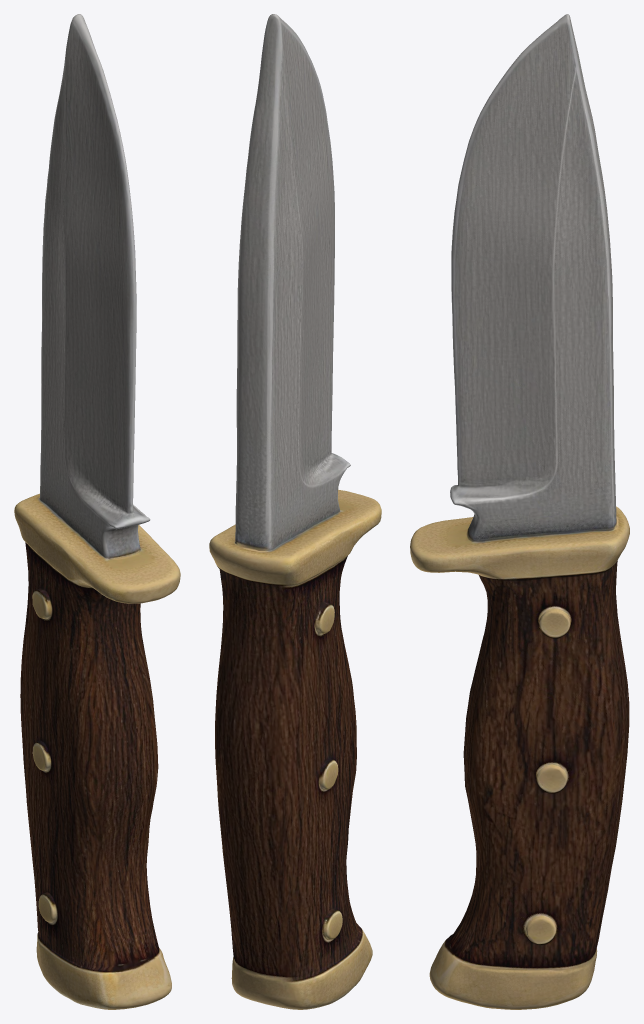
File: hunting_knife.glb
3 views of the same model, side by side, from view 1: azimuth 30°, elevation 25°; view 2: azimuth 150°, elevation 25°; view 3: azimuth 270°, elevation 25° (orthographic). The views are drawn at different scales.
Visible parts, largest first — view 1: hunting_knife; view 2: hunting_knife; view 3: hunting_knife.
Boxes of the visible parts, <box> form: hunting_knife: <box>14,14,180,1009</box>; hunting_knife: <box>209,14,381,1009</box>; hunting_knife: <box>410,14,629,1009</box>.
Size of the model in its own units: 0.0257 by 0.25 by 0.0509.
1 material, 1 textured.
